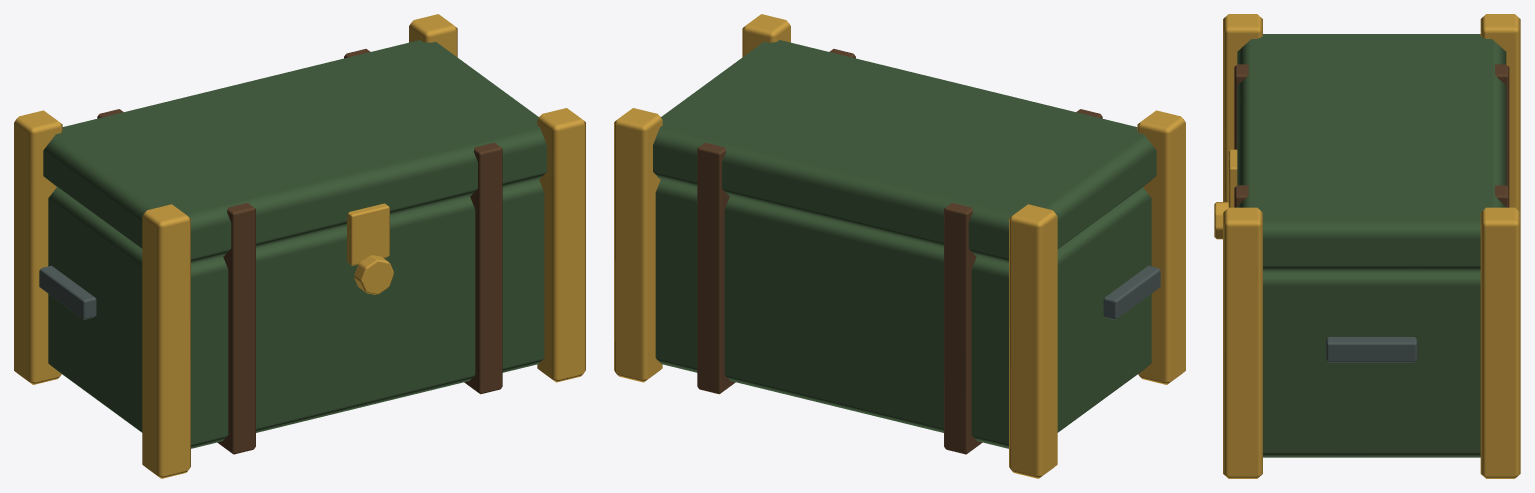
The model's file is Footlocker.glb.
The picture shows the model from 3 angles, left to right: view 1: azimuth 30°, elevation 25°; view 2: azimuth 150°, elevation 25°; view 3: azimuth 270°, elevation 25°; orthographic projection.
Parts seen in each view (by area): view 1: Footlocker.001; view 2: Footlocker.001; view 3: Footlocker.001.
Boxes of the visible parts, x1,y1,x2,y2 form: Footlocker.001: (14, 14, 585, 478); Footlocker.001: (614, 14, 1185, 478); Footlocker.001: (1214, 14, 1520, 478).
Bounding box in the file's own units: 0.97 × 0.5 × 0.535.
